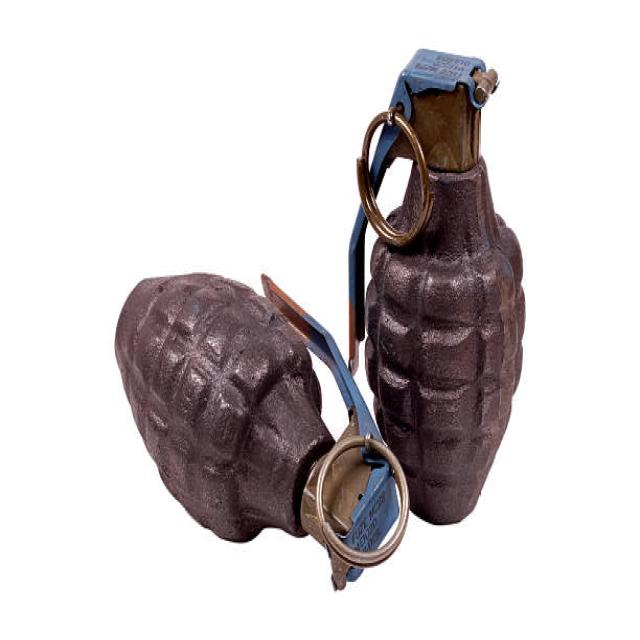grenade: (116, 267, 415, 592), (343, 39, 528, 530)
